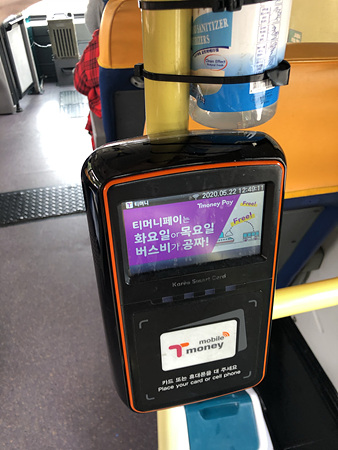terminal: (84, 131, 275, 408)
